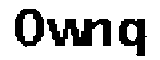0: (10, 8, 46, 51)
n: (90, 15, 115, 50)
q: (115, 7, 150, 60)
w: (46, 15, 90, 50)
